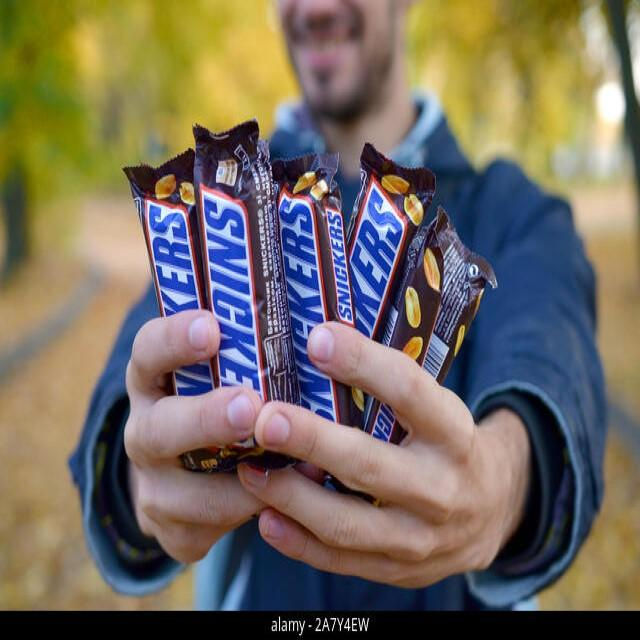snickers_chocolate: (136, 170, 216, 390), (275, 183, 333, 430), (340, 187, 415, 338), (218, 140, 262, 397)
